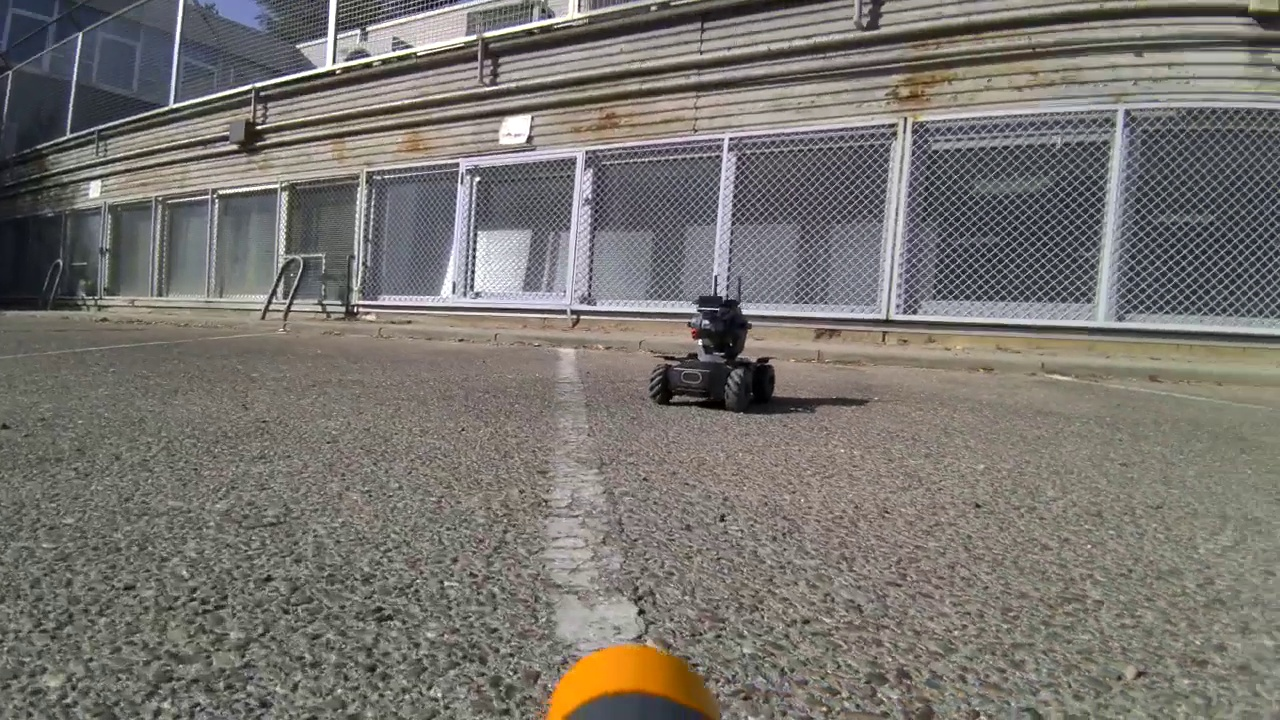robot: (654, 274, 776, 414)
